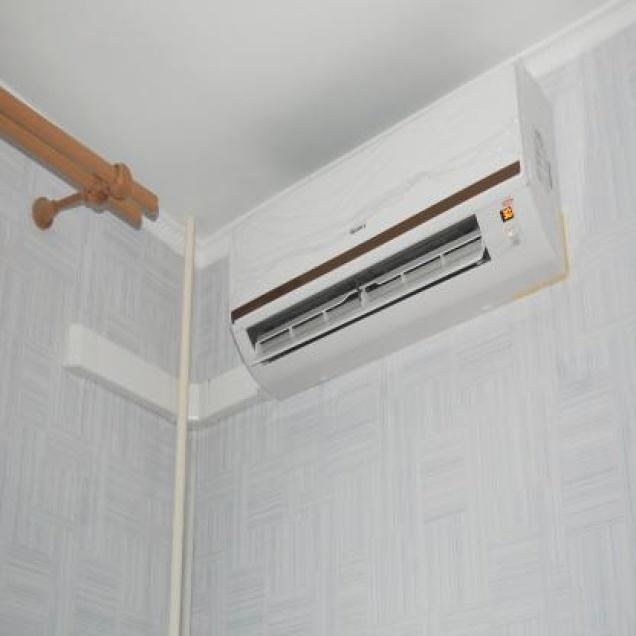AC: (222, 65, 569, 402)
